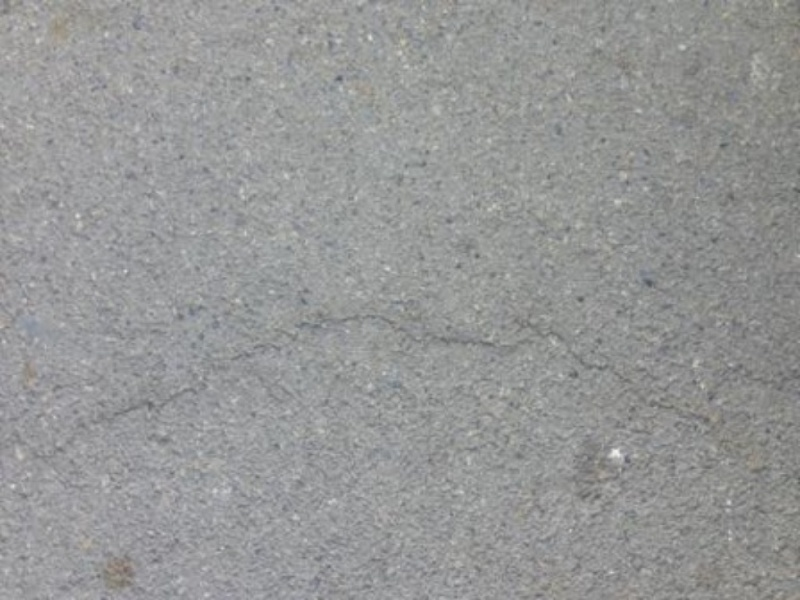crack: (20, 314, 704, 472)
